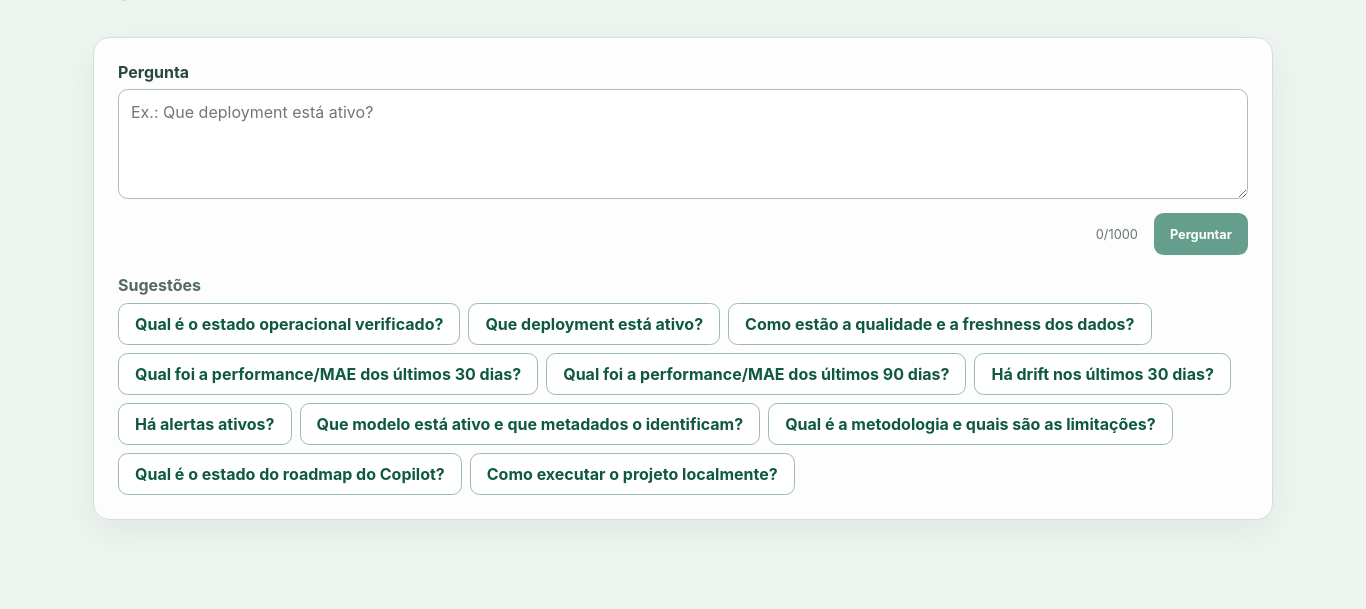
Test case: CopilotPage › shows the replay link for the dedicated refusal and clears history
In the text box labelled "Pergunta": (683, 144) [118,89,1248,199], type "Mostra previsões históricas"
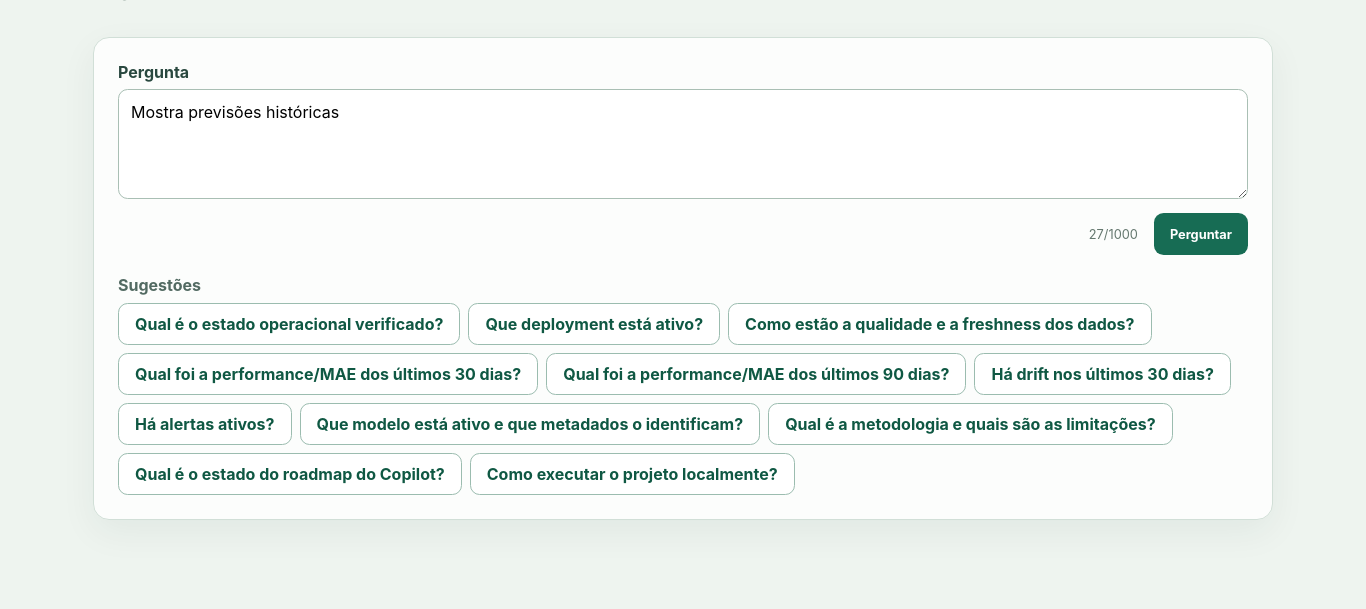
Click the button "Perguntar": (1201, 234) [1154,213,1248,255]
(page scrolled)
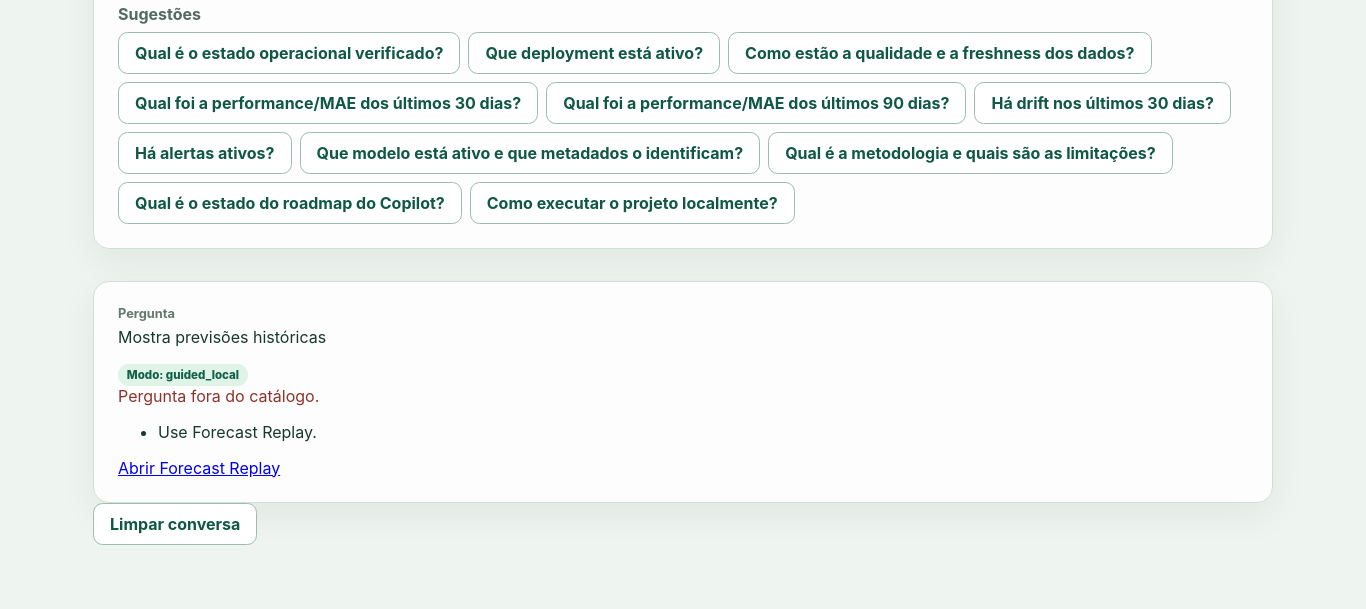
Click the button "Limpar conversa": (175, 524) [93,503,257,545]
(page scrolled)
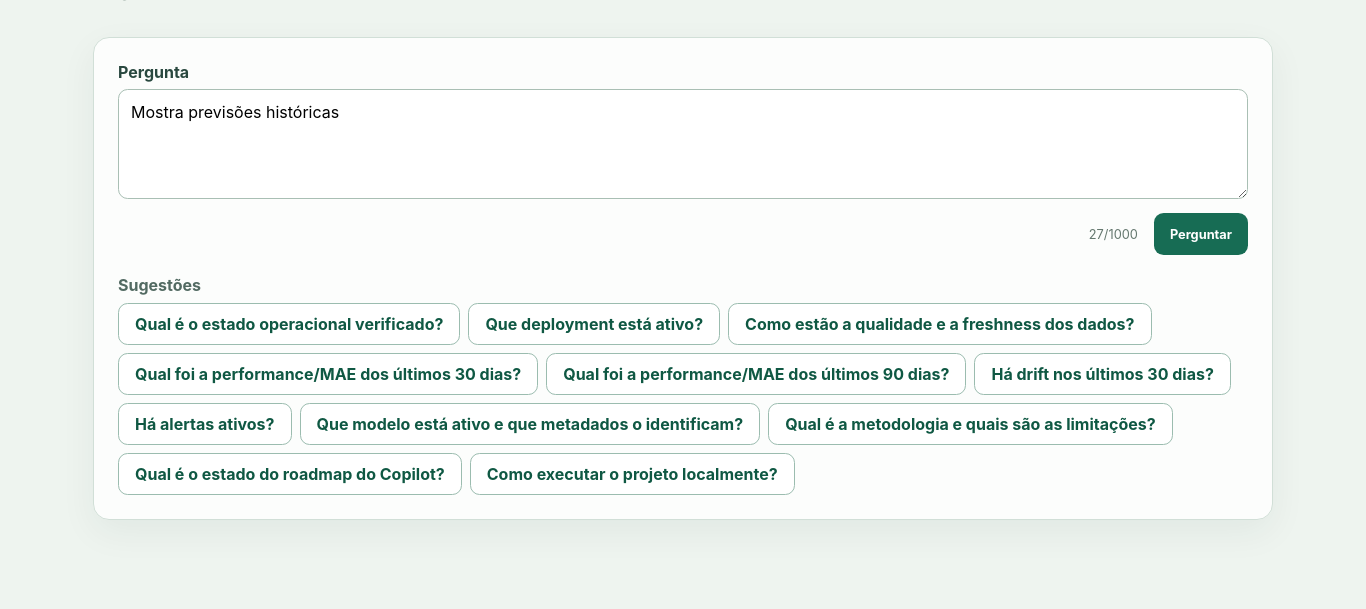
Expected: the text "Pergunta fora do catálogo." is gone
